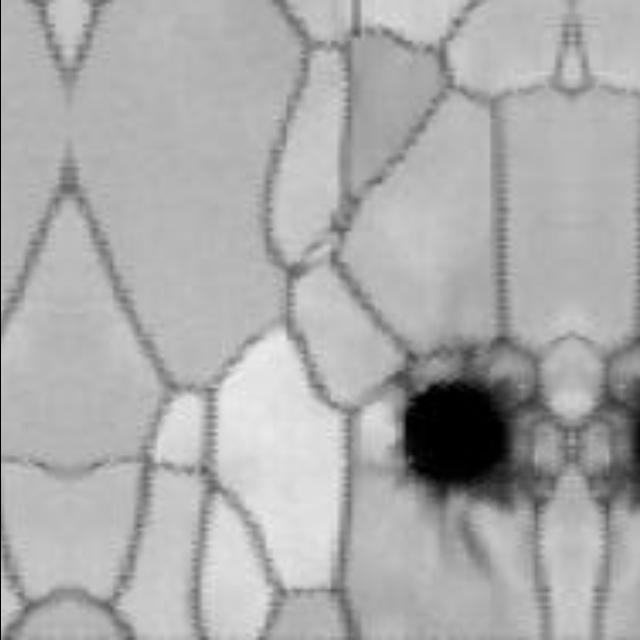good_void: (397, 345, 555, 504), (589, 349, 640, 502)
